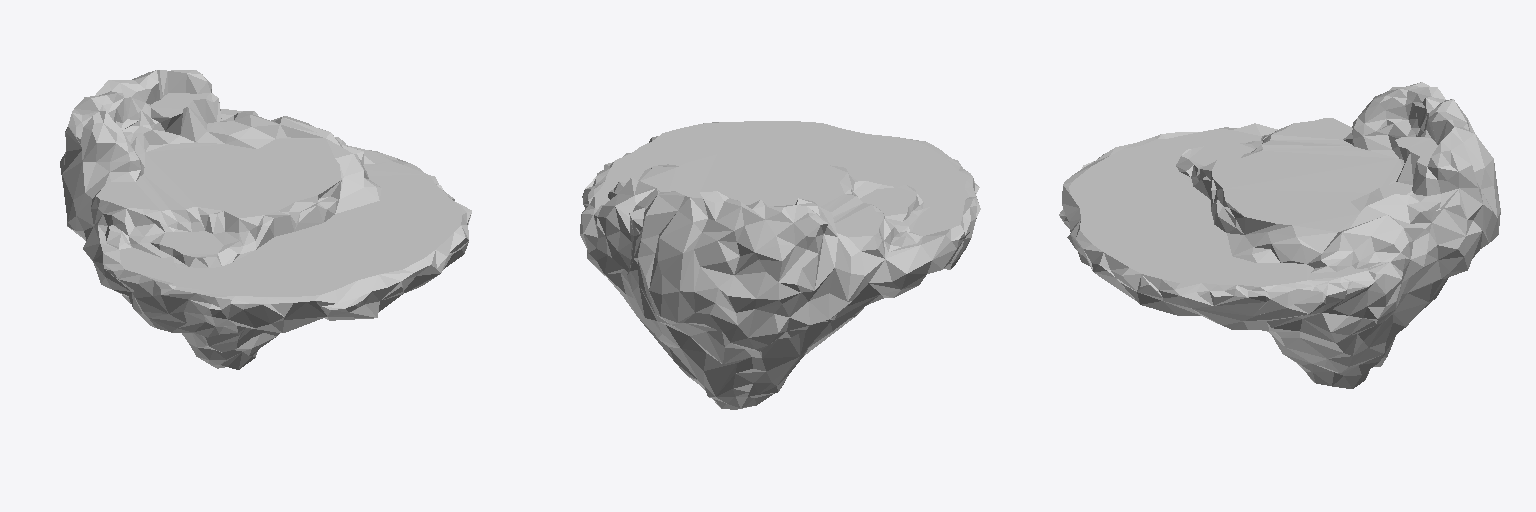
File: Floating_Platform.obj
3 views of the same model, side by side, from view 1: azimuth 30°, elevation 25°; view 2: azimuth 150°, elevation 25°; view 3: azimuth 270°, elevation 25° (orthographic).
Visible parts, largest first — view 1: SFMC_geo12419 Main_grp; view 2: SFMC_geo12419 Main_grp; view 3: SFMC_geo12419 Main_grp.
Part boxes in pixels (x1,y1,x2,y2): SFMC_geo12419 Main_grp: (60, 70, 471, 369); SFMC_geo12419 Main_grp: (580, 121, 980, 409); SFMC_geo12419 Main_grp: (1059, 82, 1500, 388).
Bounding box in the file's own units: 201 × 145 × 224.